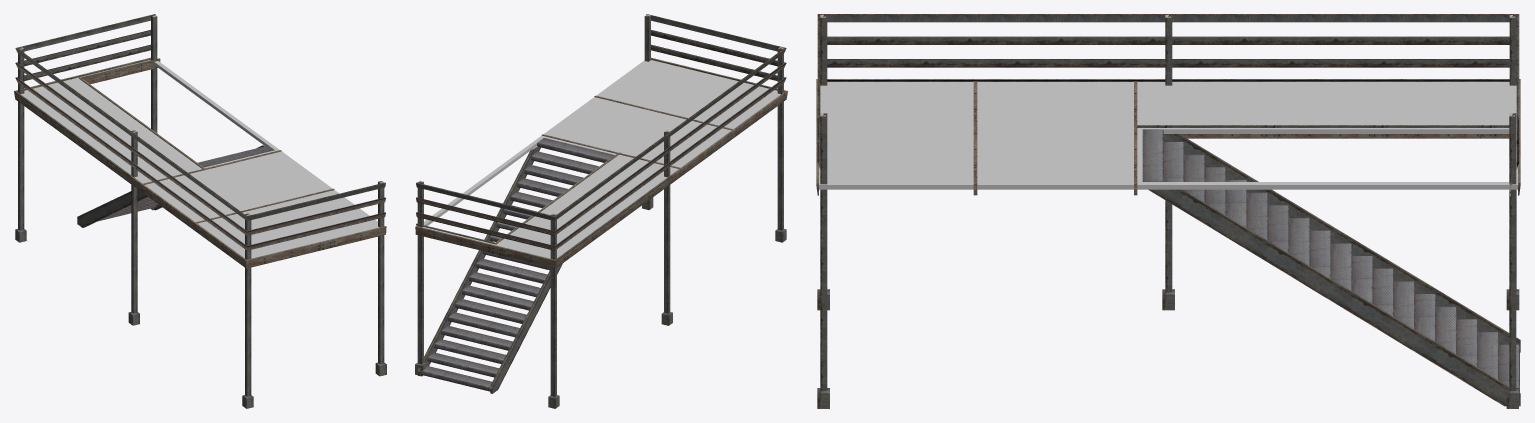
Rendered from ContainerBuildingStaircase.FBX.
3 views of the same model, side by side, from view 1: azimuth 30°, elevation 25°; view 2: azimuth 150°, elevation 25°; view 3: azimuth 270°, elevation 25° (orthographic). The views are drawn at different scales.
Visible parts, largest first — view 1: ContainerBuildingStaircase; view 2: ContainerBuildingStaircase; view 3: ContainerBuildingStaircase.
Boxes of the visible parts, x1,y1,x2,y2 form: ContainerBuildingStaircase: [14, 14, 386, 408]; ContainerBuildingStaircase: [415, 14, 787, 408]; ContainerBuildingStaircase: [816, 14, 1520, 408].
Size of the model in its own units: 358 by 460 by 1008.
